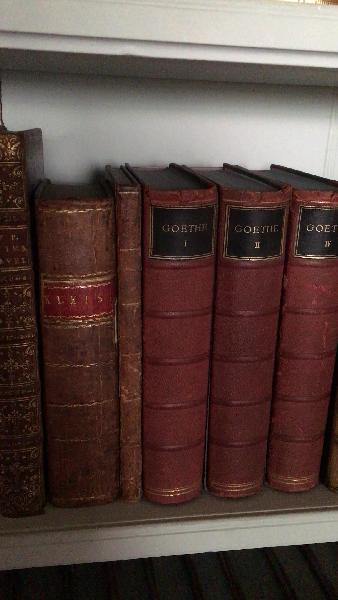Aa6-10: (112, 186, 146, 507)
Aa6-11_13: (139, 187, 338, 510)
Aa6-8: (1, 136, 42, 524)
Aa6-9: (27, 194, 121, 519)
